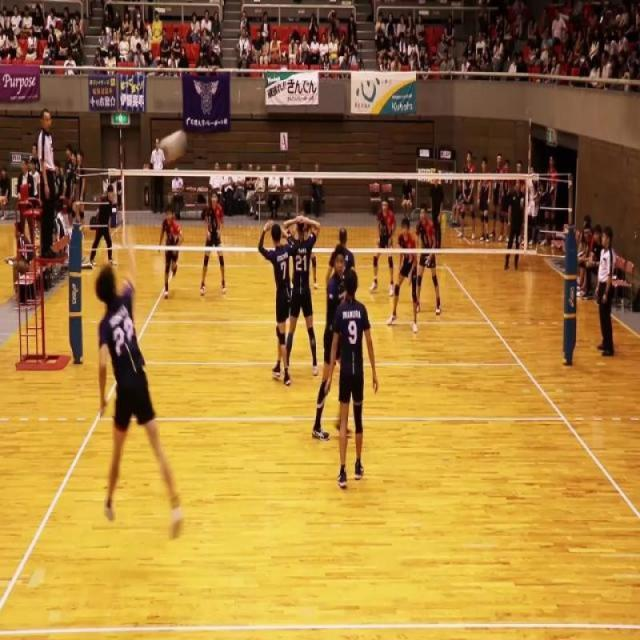volleyball: (157, 129, 188, 163)
